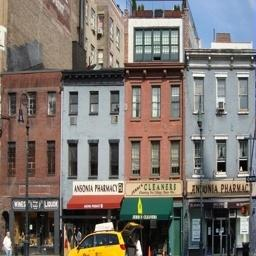building: (120, 0, 256, 256)
